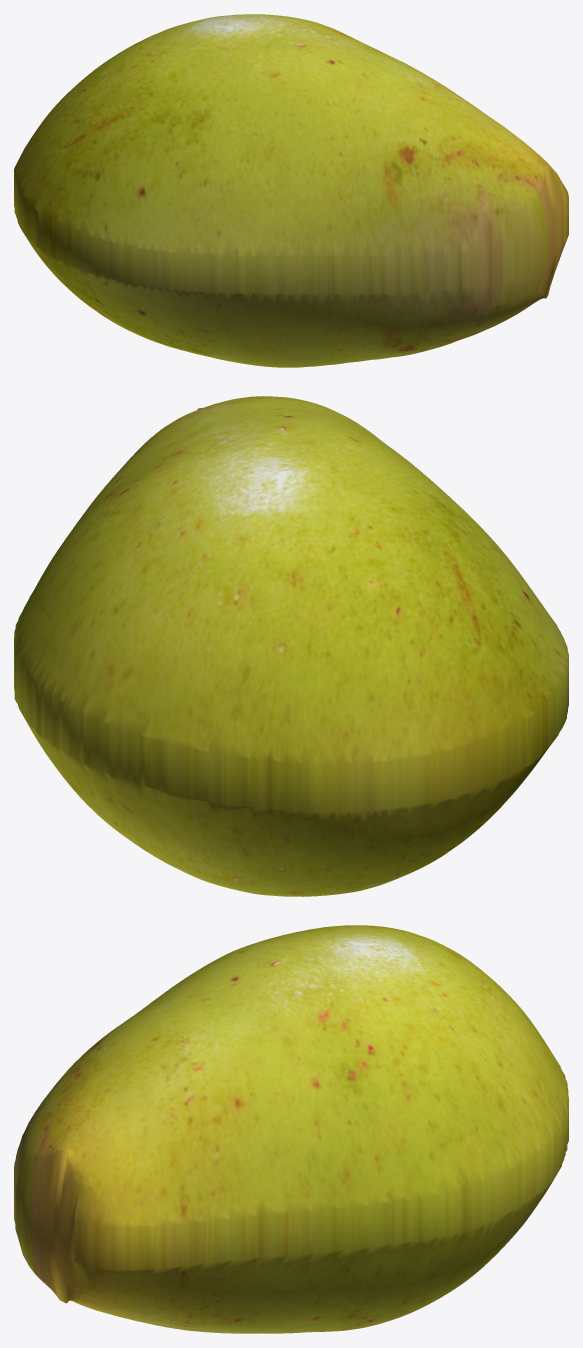
Rendered from green pear_5_0.obj.
3 views of the same model, one above another, from view 1: azimuth 30°, elevation 25°; view 2: azimuth 150°, elevation 25°; view 3: azimuth 270°, elevation 25° (orthographic). The views are drawn at different scales.
Visible parts, largest first — view 1: Grid; view 2: Grid; view 3: Grid.
Boxes of the visible parts, x1,y1,x2,y2 form: Grid: [14, 14, 568, 367]; Grid: [14, 396, 568, 896]; Grid: [14, 925, 568, 1333].
Bounding box in the file's own units: 1.69 × 1.2 × 1.69.
1 material, 1 textured.
